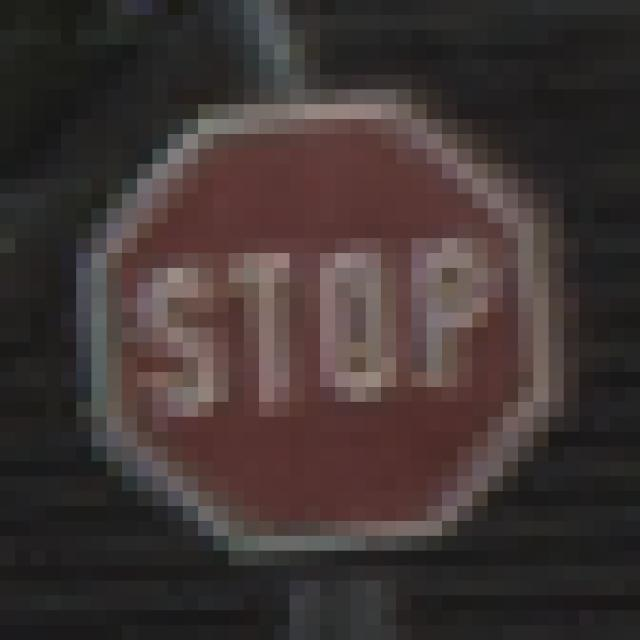STOP: (77, 90, 565, 567)
